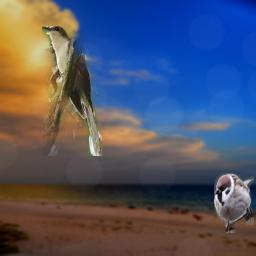Cuckoo: (42, 26, 102, 156)
Sparrow: (214, 173, 254, 233)
